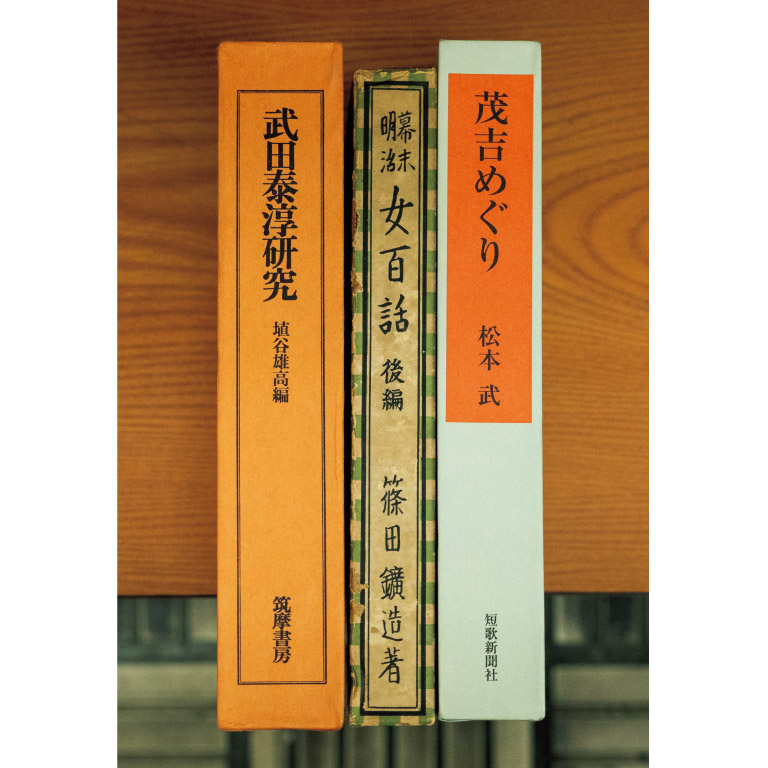book: (210, 36, 353, 735), (433, 36, 549, 725), (343, 67, 442, 731)
